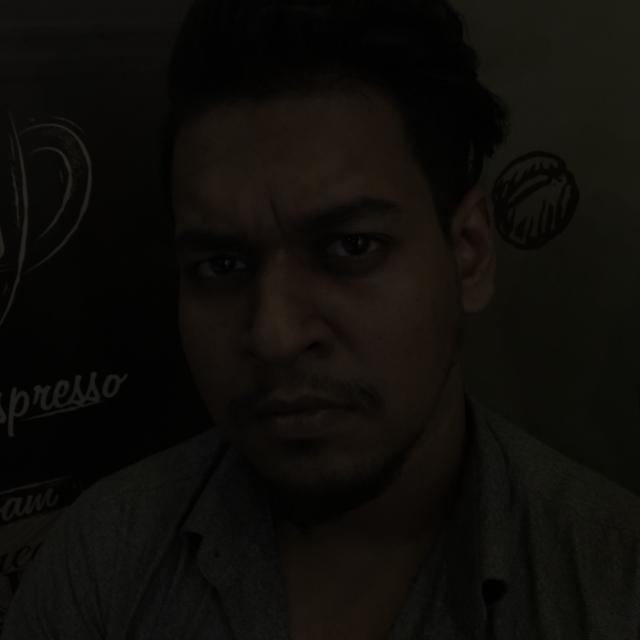Angry: (107, 90, 540, 486)
